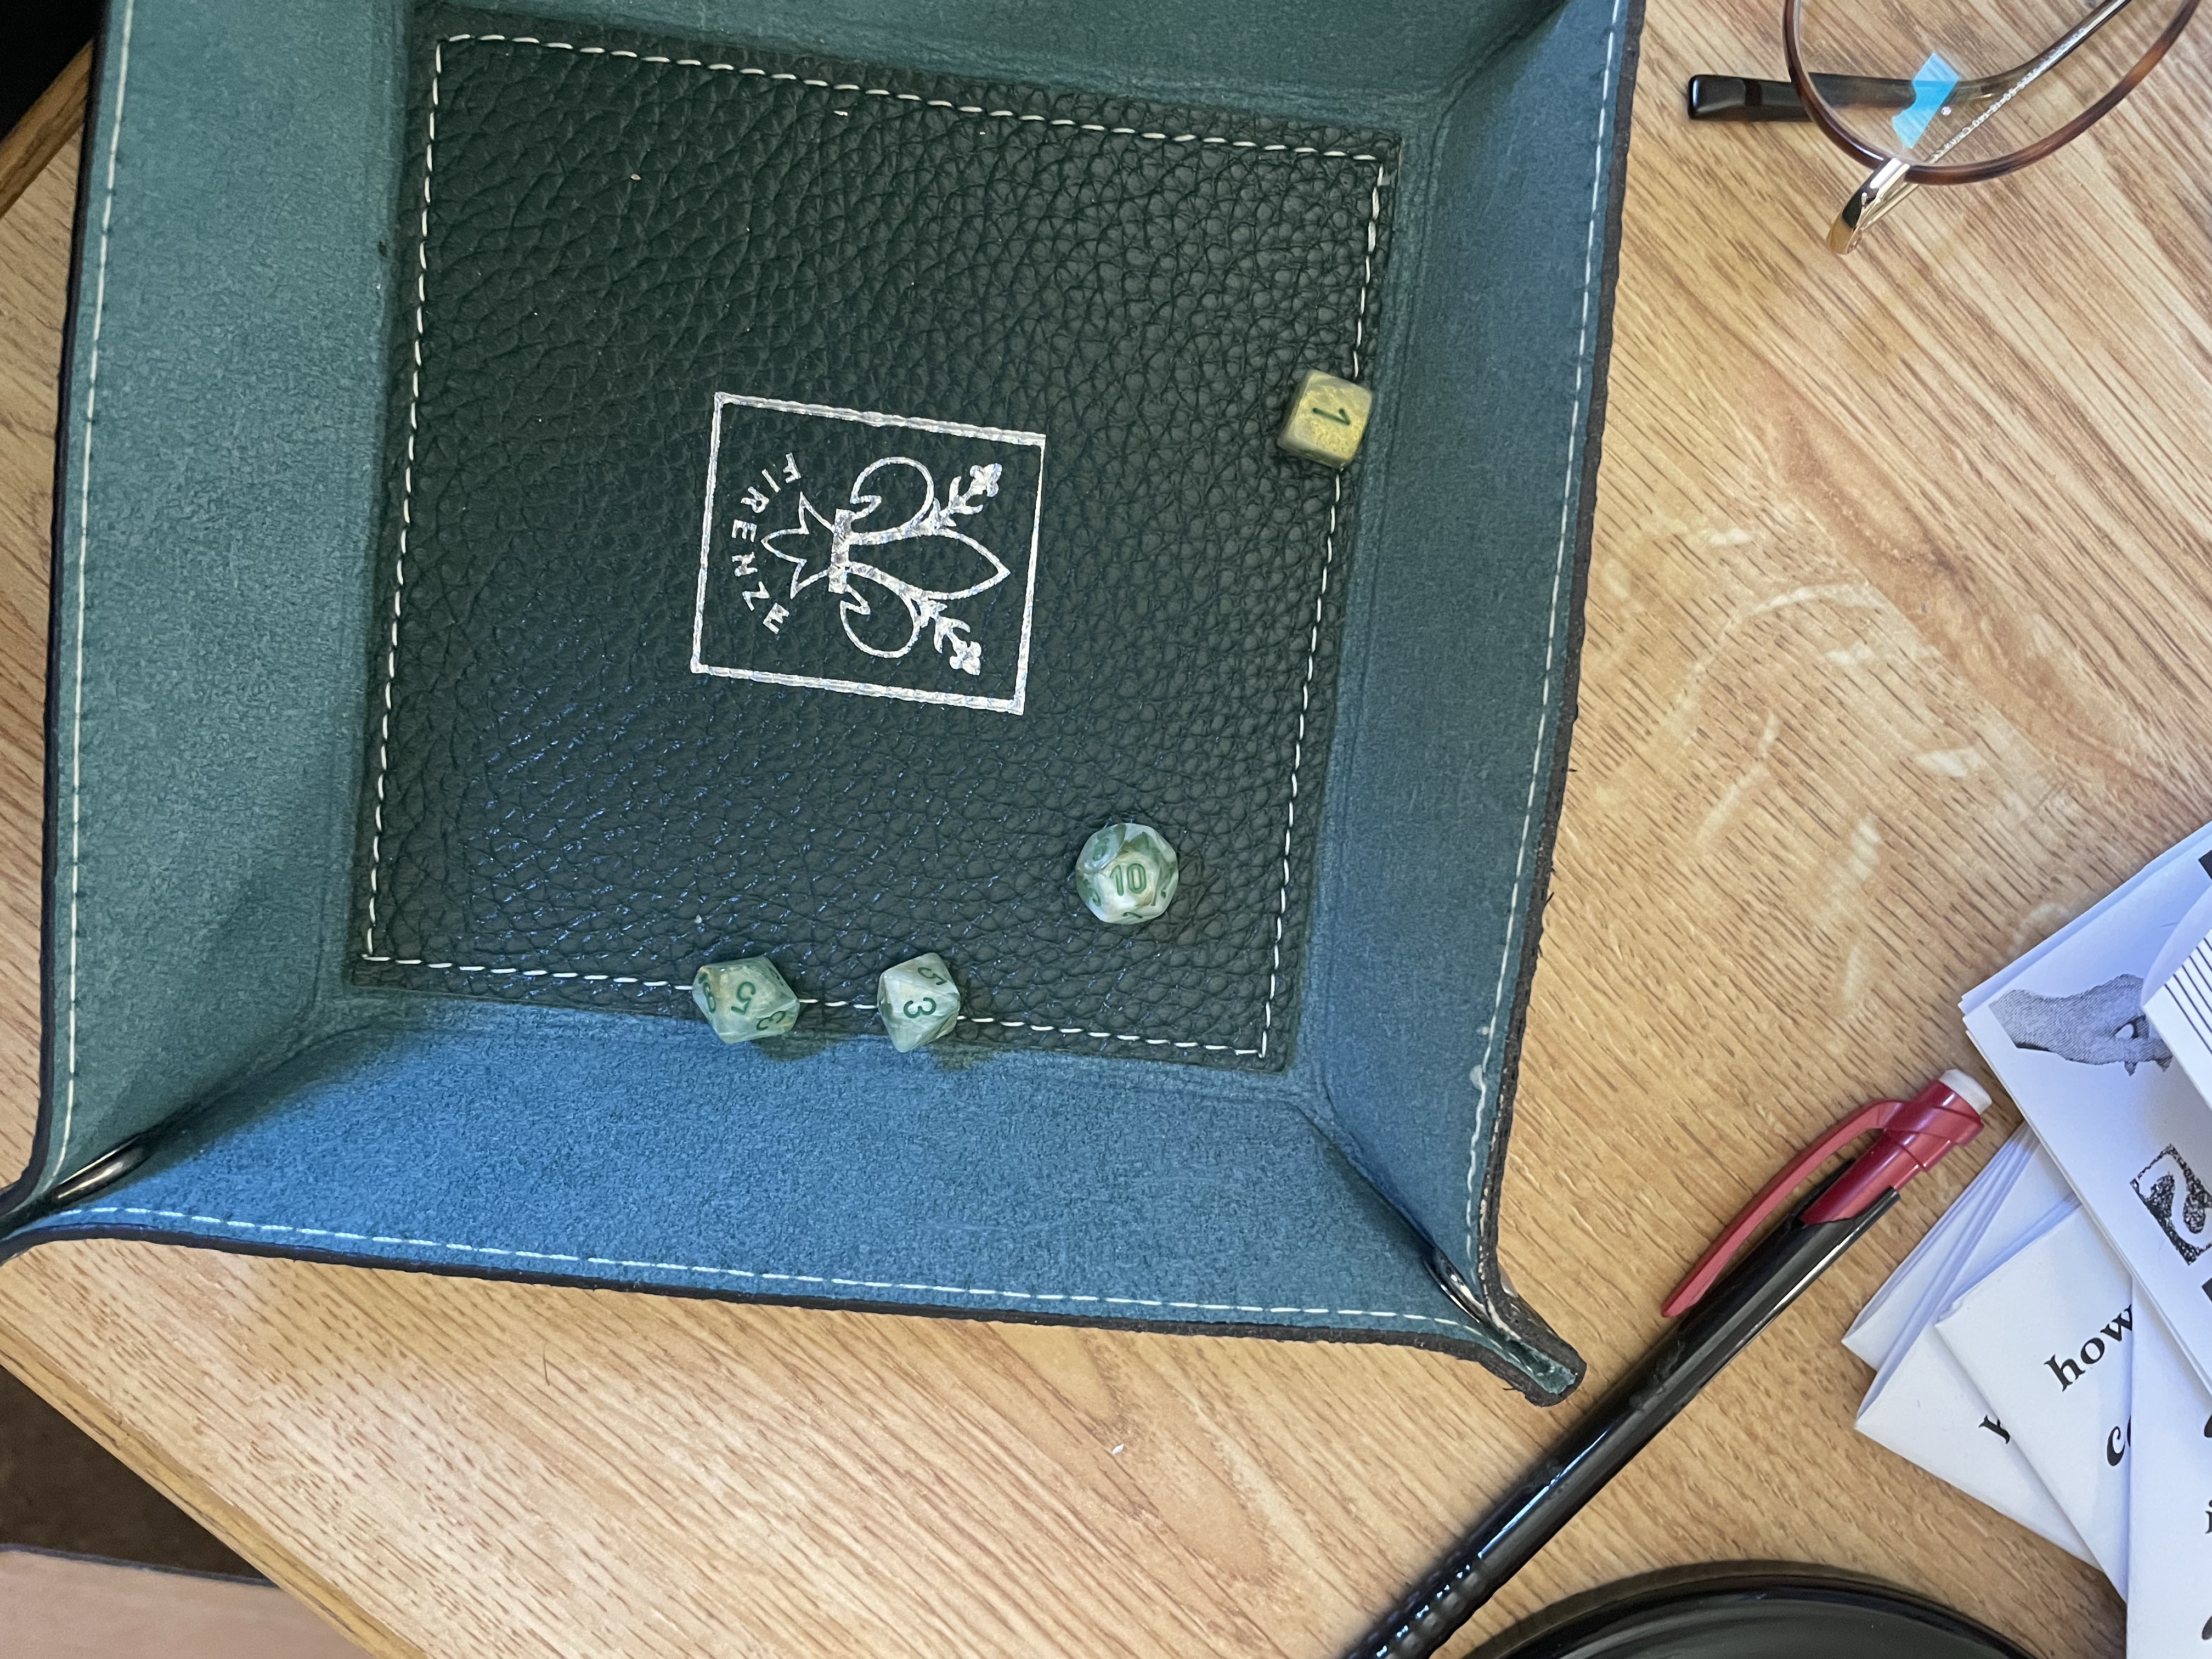five: (688, 946, 801, 1046)
one: (1263, 343, 1407, 486)
ten: (1055, 784, 1195, 945)
three: (857, 950, 981, 1051)
